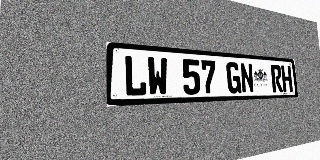5: (182, 59, 201, 95)
7: (200, 60, 217, 94)
G: (226, 62, 241, 94)
H: (281, 65, 293, 92)
L: (123, 55, 147, 97)
N: (240, 62, 254, 93)
R: (270, 65, 283, 92)
W: (147, 56, 168, 96)
